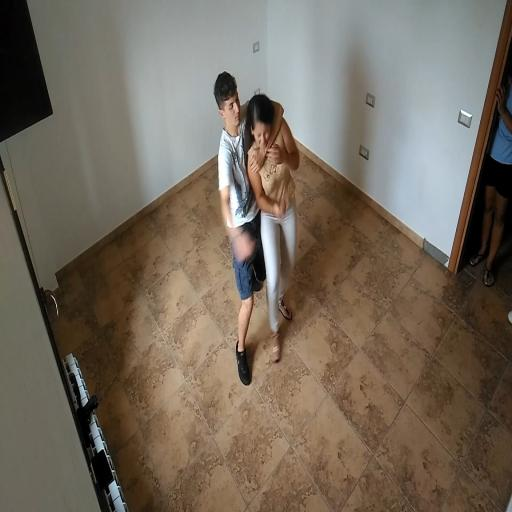violencia: (194, 67, 312, 393)
